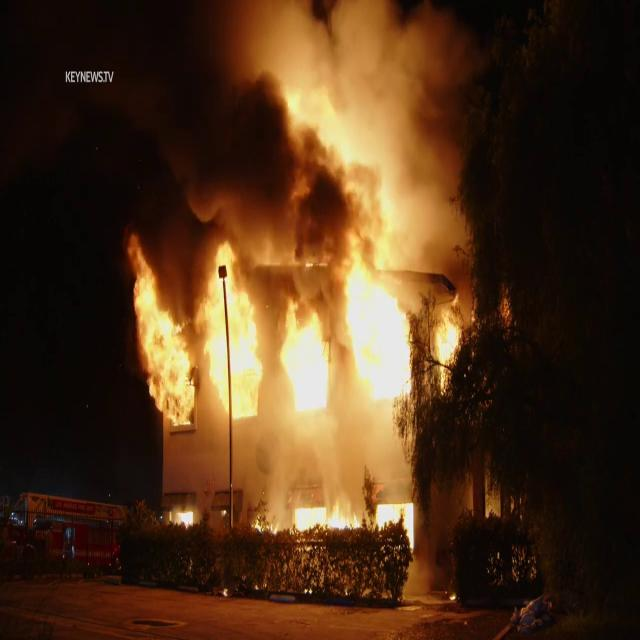Fire: (143, 200, 463, 490)
